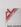ChemLab: (5, 8, 18, 21)
